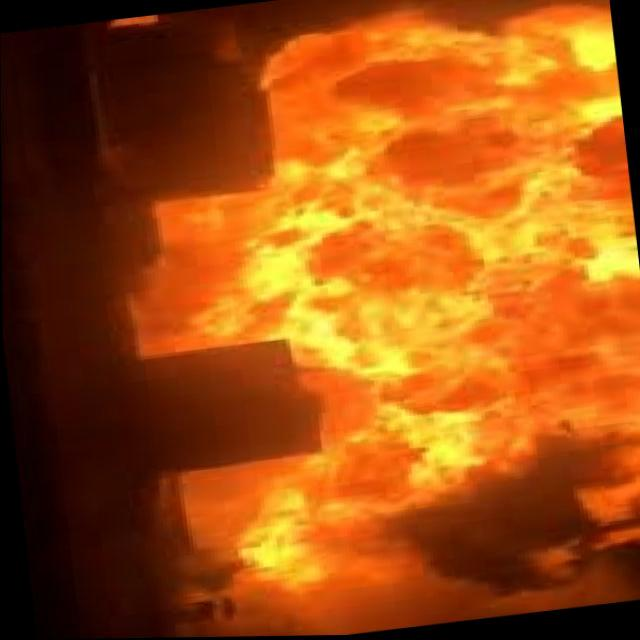fire: (45, 0, 640, 632)
